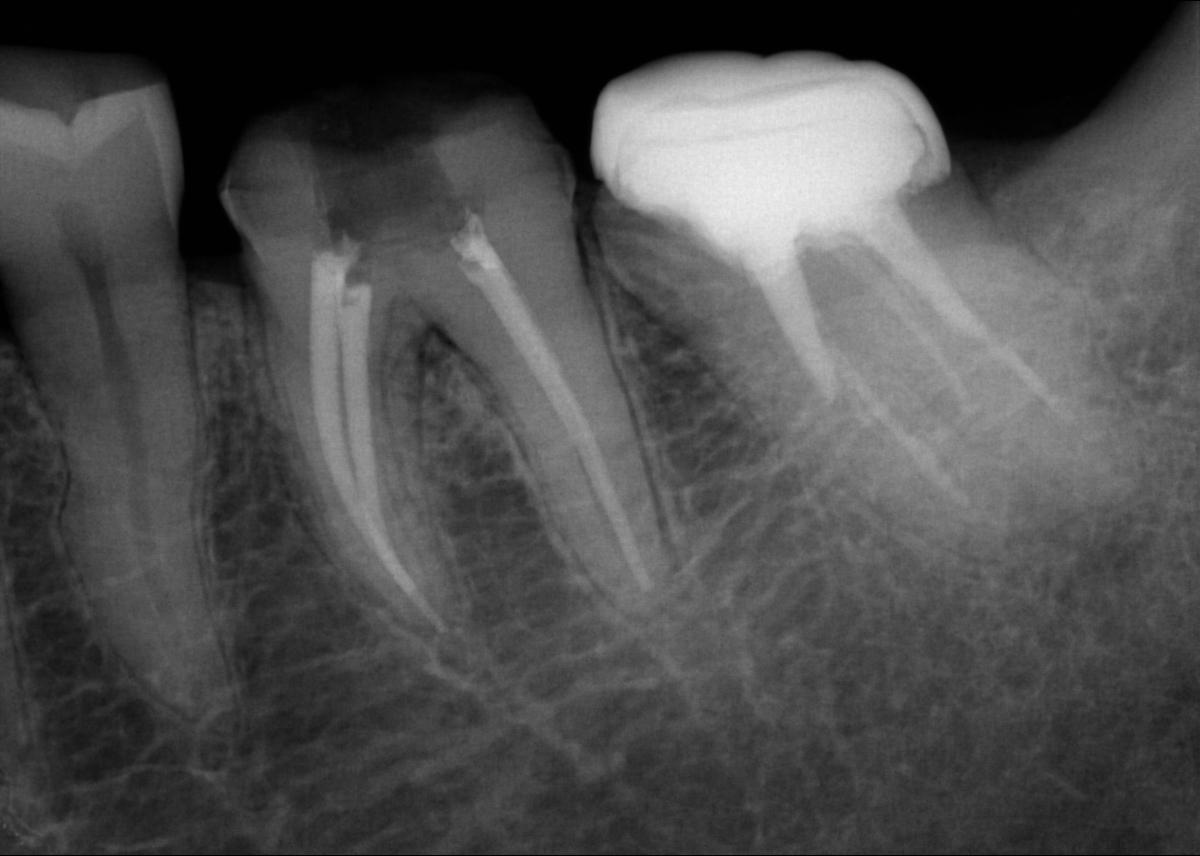Endo-Periodontal Lesion: (417, 322, 460, 369)
